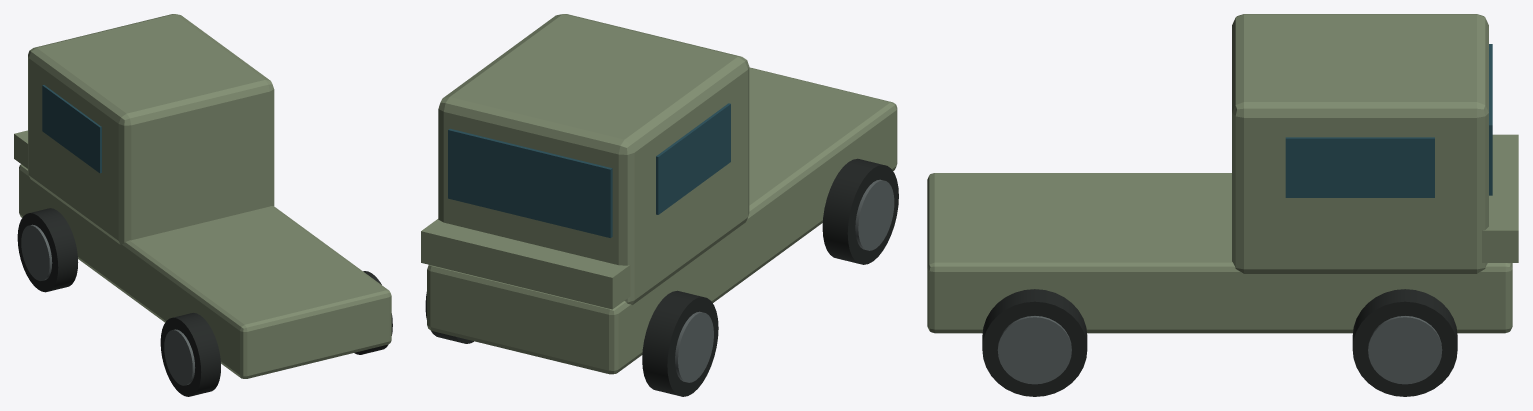
3 renders of one model, left to right at view 1: azimuth 30°, elevation 25°; view 2: azimuth 150°, elevation 25°; view 3: azimuth 270°, elevation 25°, orthographic. The views are drawn at different scales.
Visible parts, largest first — view 1: Hull_MVP olive paint, RunningGear_MVP rubber, Hull_MVP optical glass, RunningGear_MVP exposed metal; view 2: Hull_MVP olive paint, Hull_MVP optical glass, RunningGear_MVP rubber, RunningGear_MVP exposed metal; view 3: Hull_MVP olive paint, RunningGear_MVP rubber, Hull_MVP optical glass, RunningGear_MVP exposed metal.
Boxes of the visible parts, bbox=[...] form: Hull_MVP olive paint: bbox=[14, 14, 391, 378]; RunningGear_MVP rubber: bbox=[17, 208, 392, 396]; Hull_MVP optical glass: bbox=[42, 85, 101, 173]; RunningGear_MVP exposed metal: bbox=[21, 224, 195, 385]; Hull_MVP olive paint: bbox=[421, 14, 897, 374]; Hull_MVP optical glass: bbox=[448, 103, 730, 237]; RunningGear_MVP rubber: bbox=[425, 158, 898, 396]; RunningGear_MVP exposed metal: bbox=[675, 179, 894, 382]; Hull_MVP olive paint: bbox=[927, 14, 1518, 333]; RunningGear_MVP rubber: bbox=[982, 289, 1457, 396]; Hull_MVP optical glass: bbox=[1285, 44, 1492, 197]; RunningGear_MVP exposed metal: bbox=[997, 316, 1442, 384].
Bounding box in the file's own units: 2.46 × 2.57 × 4.95.
